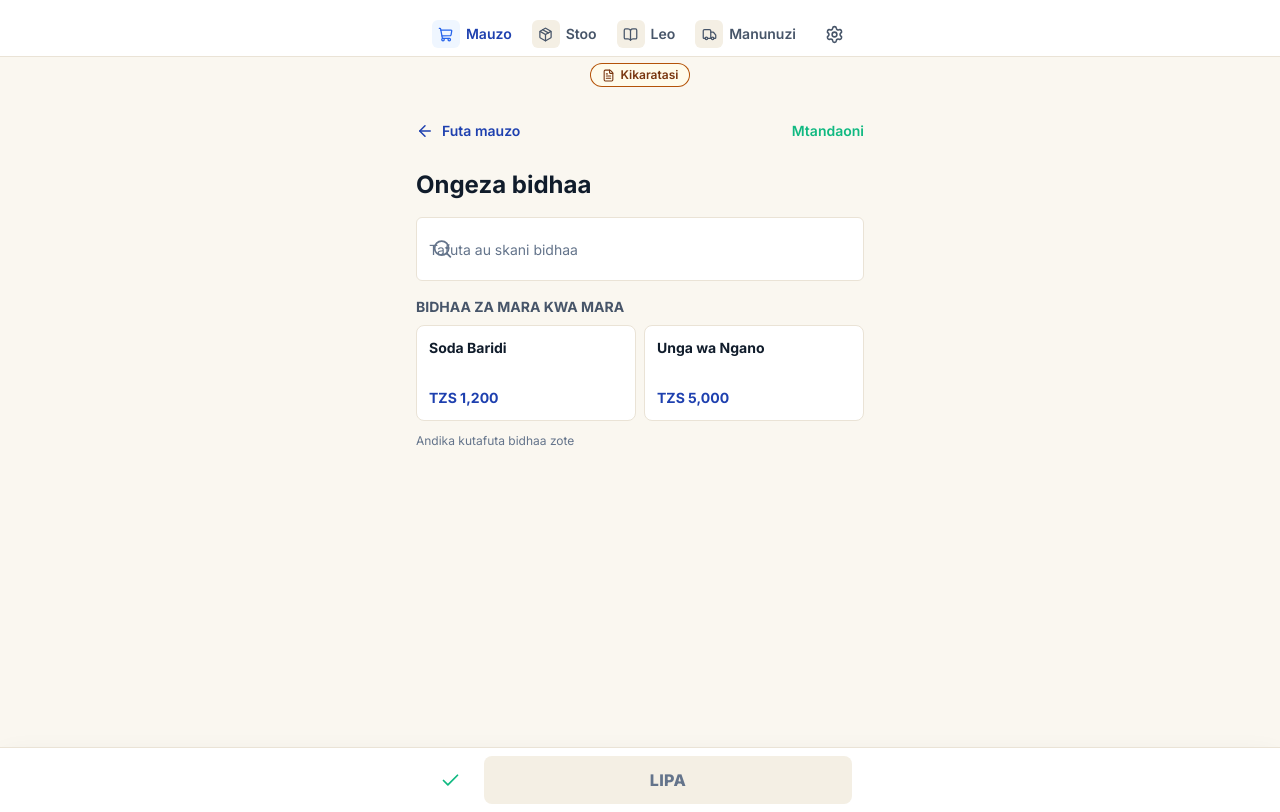
Scenario: KIKARATASI-2: the slip restores into the form › restores supplier, lines and typed costs on the next Pokea open, online
Expected: the heading "Ongeza bidhaa" is shown, x1=416 y1=170 x2=591 y2=199
Expected: the text "Kikaratasi" is shown, x1=590 y1=63 x2=690 y2=87
What coordinates should you click on to do the following:
click the button "Manunuzi"
I would click on:
 (746, 34)
Its box is x1=687 y1=12 x2=804 y2=56.
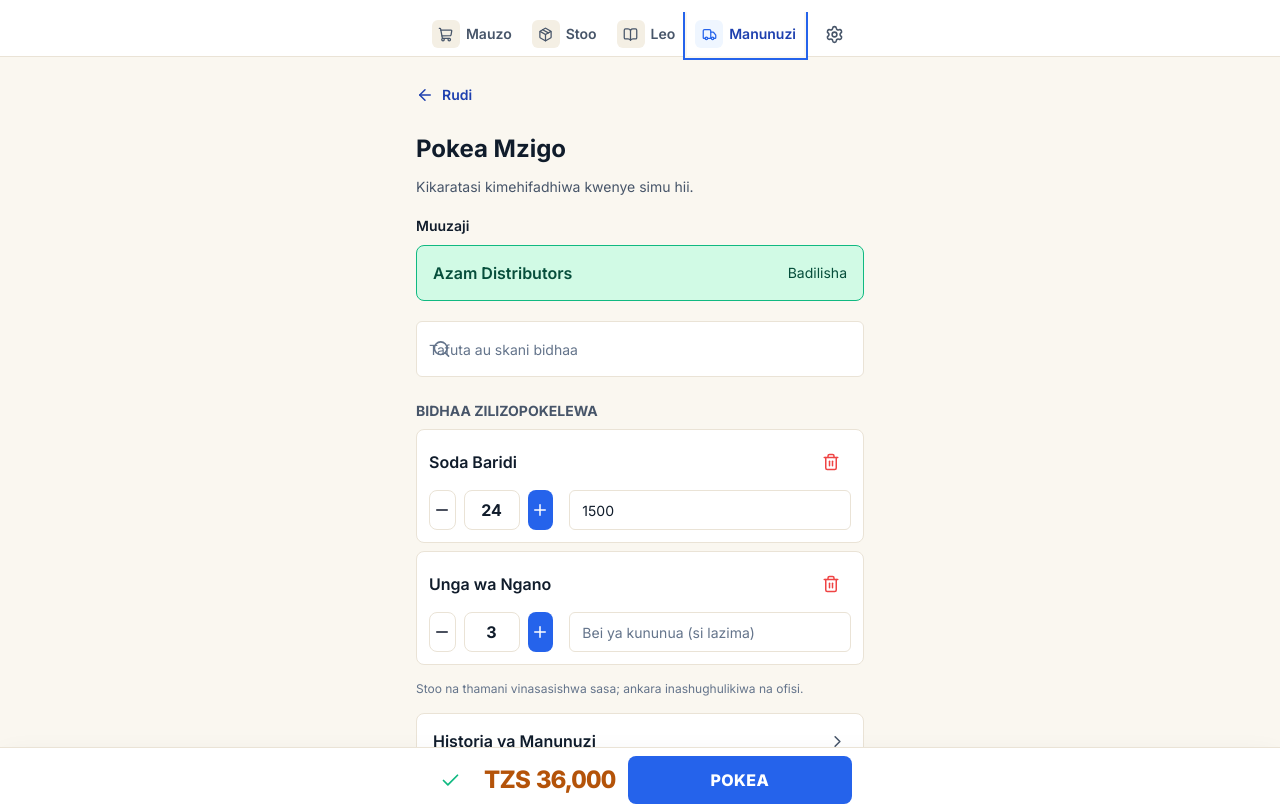
Expected: the heading "Pokea Mzigo" is shown, x1=416 y1=134 x2=566 y2=163
Expected: the button "Azam Distributors Badilisha" is shown, x1=416 y1=245 x2=864 y2=301
Expected: the field named "Idadi ya Soda Baridi" holds "24", x1=464 y1=490 x2=520 y2=530
